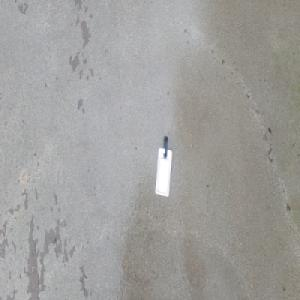LuggageTag: (154, 134, 172, 198)
